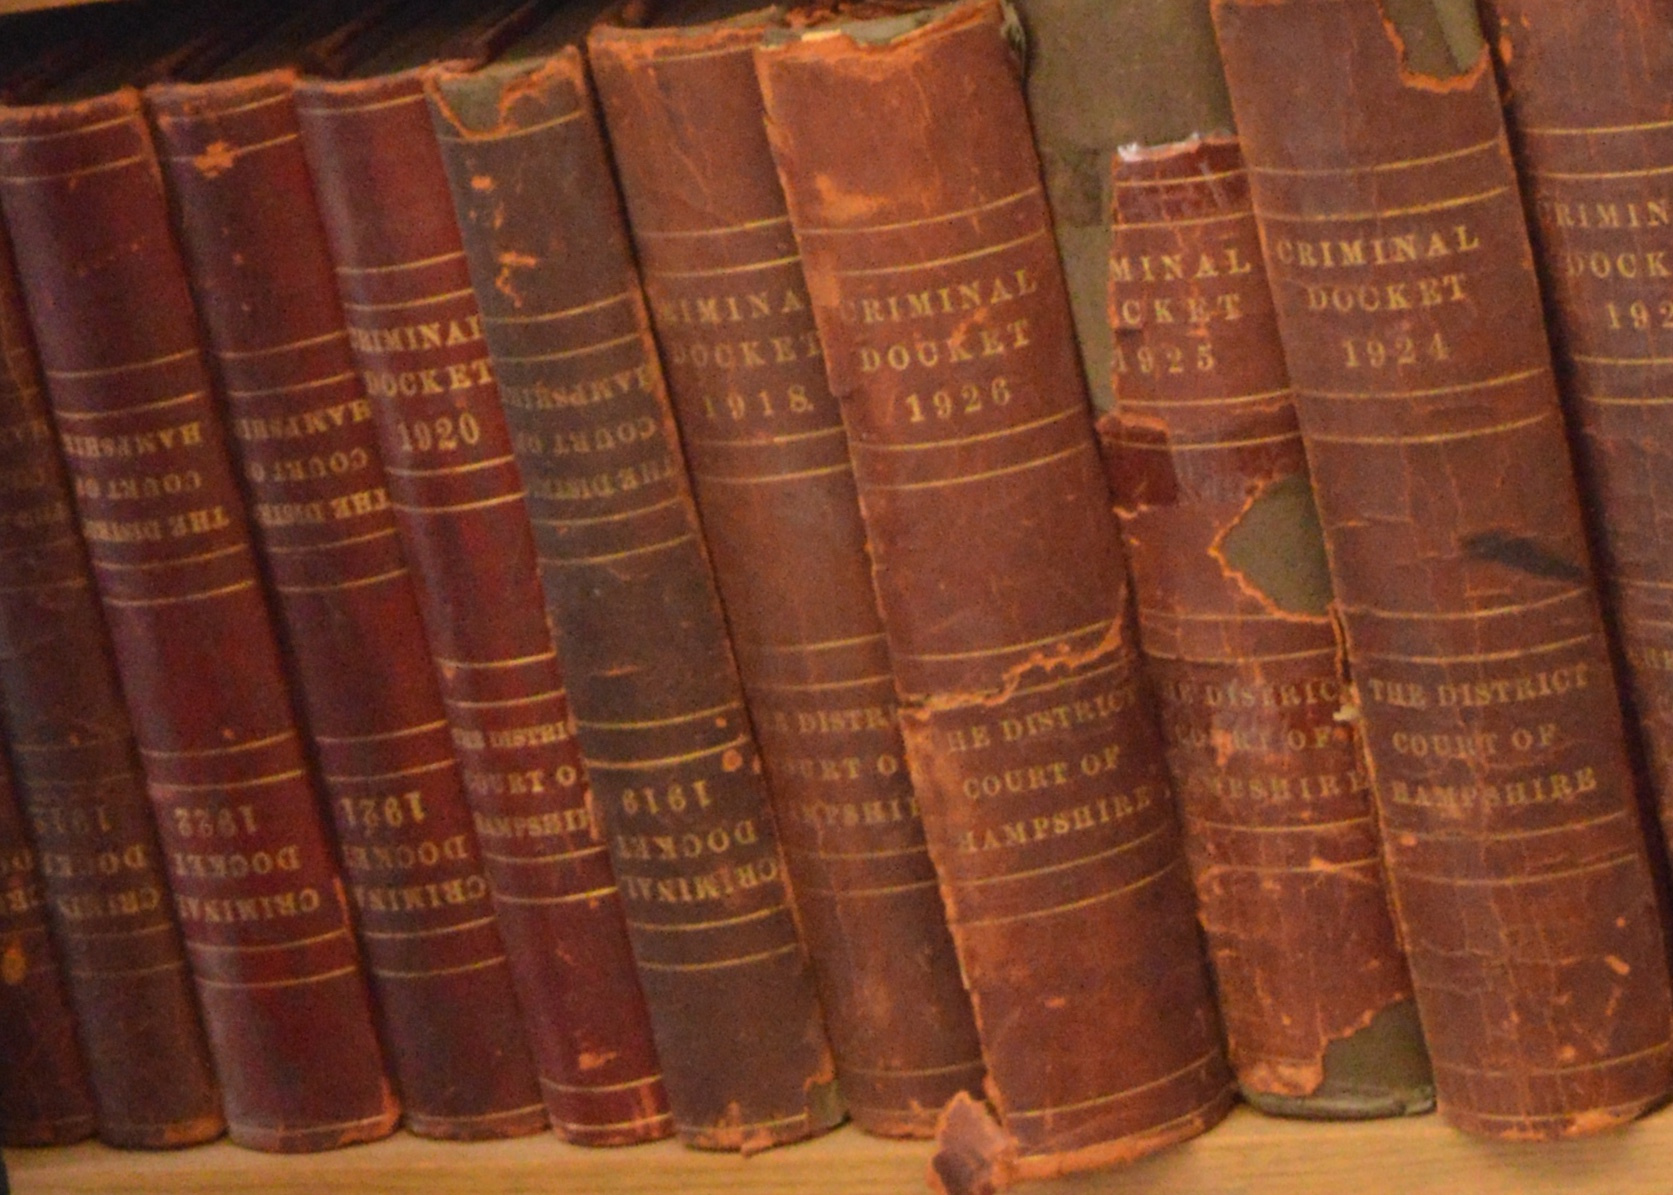buku: (1, 49, 1672, 1125)
